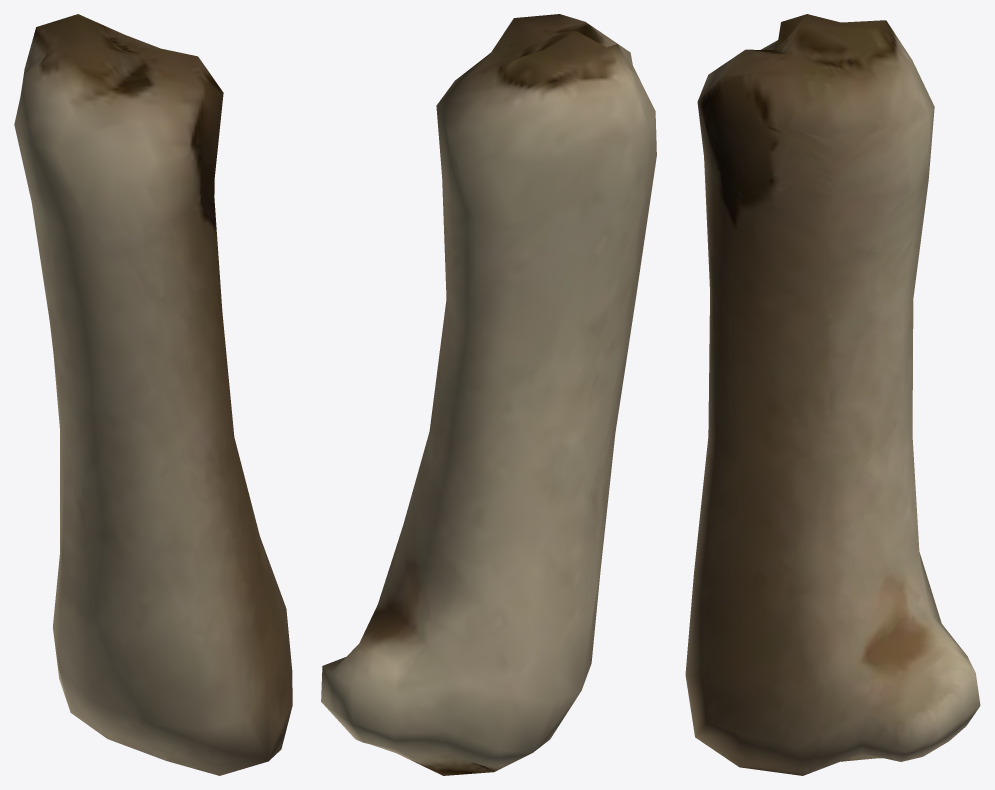
The model's file is Metacarpal_I.glb.
3 views of the same model, side by side, from view 1: azimuth 30°, elevation 25°; view 2: azimuth 150°, elevation 25°; view 3: azimuth 270°, elevation 25° (orthographic). The views are drawn at different scales.
Visible parts, largest first — view 1: Metacarpal_I_Left1:Group52207; view 2: Metacarpal_I_Left1:Group52207; view 3: Metacarpal_I_Left1:Group52207.
Part boxes in pixels (x1=…): Metacarpal_I_Left1:Group52207: x1=14, y1=14, x2=292, y2=775; Metacarpal_I_Left1:Group52207: x1=321, y1=14, x2=656, y2=775; Metacarpal_I_Left1:Group52207: x1=685, y1=14, x2=980, y2=775.
Bounding box in the file's own units: 7.61 × 19.41 × 7.52.
Materials: 1 (1 with a texture image).
